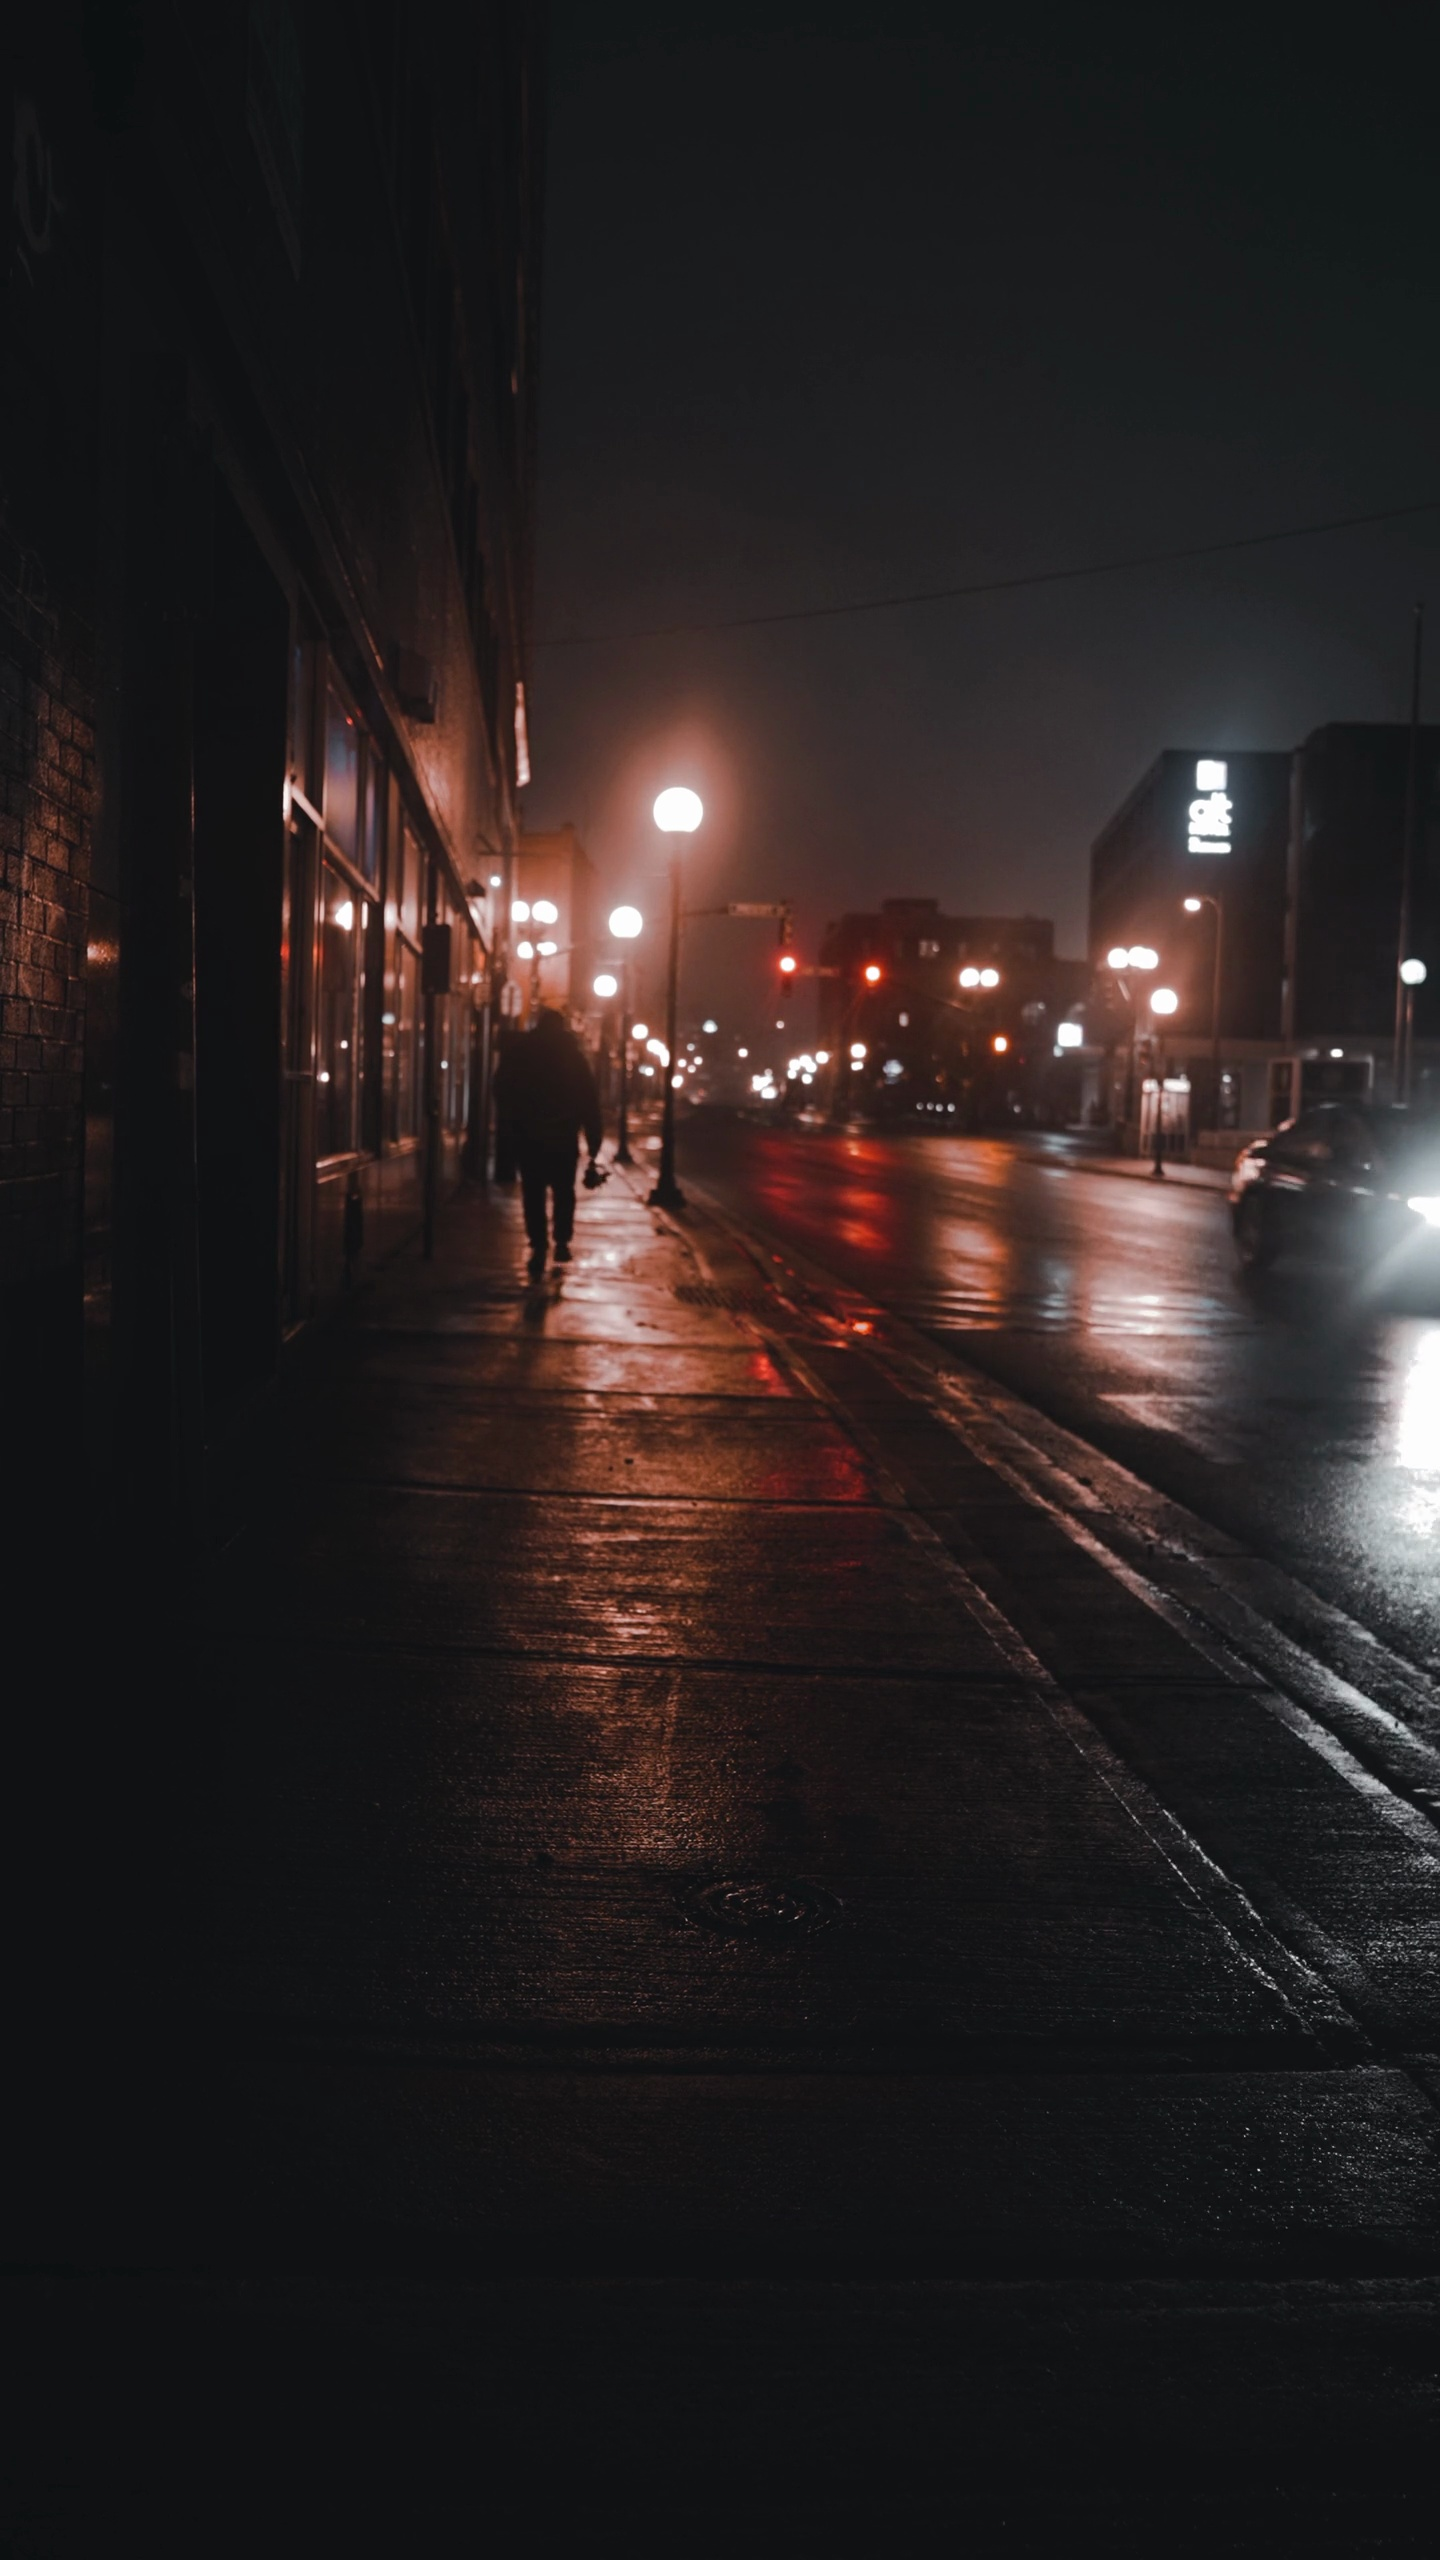person: (496, 1011, 610, 1286)
